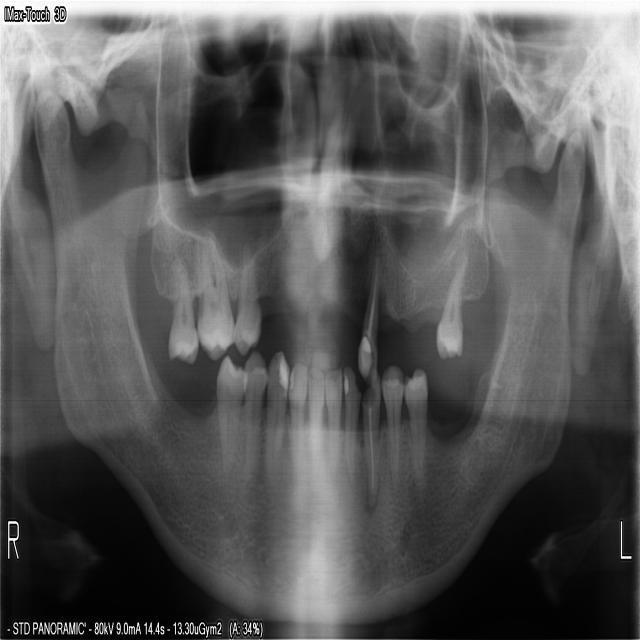LCD: (342, 364, 360, 483)
LID: (307, 362, 324, 475), (326, 362, 342, 475)
LMD: (403, 364, 429, 480)
LMU: (432, 243, 470, 364)
LPMD: (362, 369, 382, 509), (382, 369, 403, 474)
LPMU: (357, 248, 382, 378)
RCD: (242, 347, 266, 473)
RID: (264, 348, 287, 498), (288, 357, 309, 507)
RMU: (197, 230, 235, 365), (166, 242, 200, 365), (234, 239, 262, 349)
RPMD: (217, 354, 245, 468)
